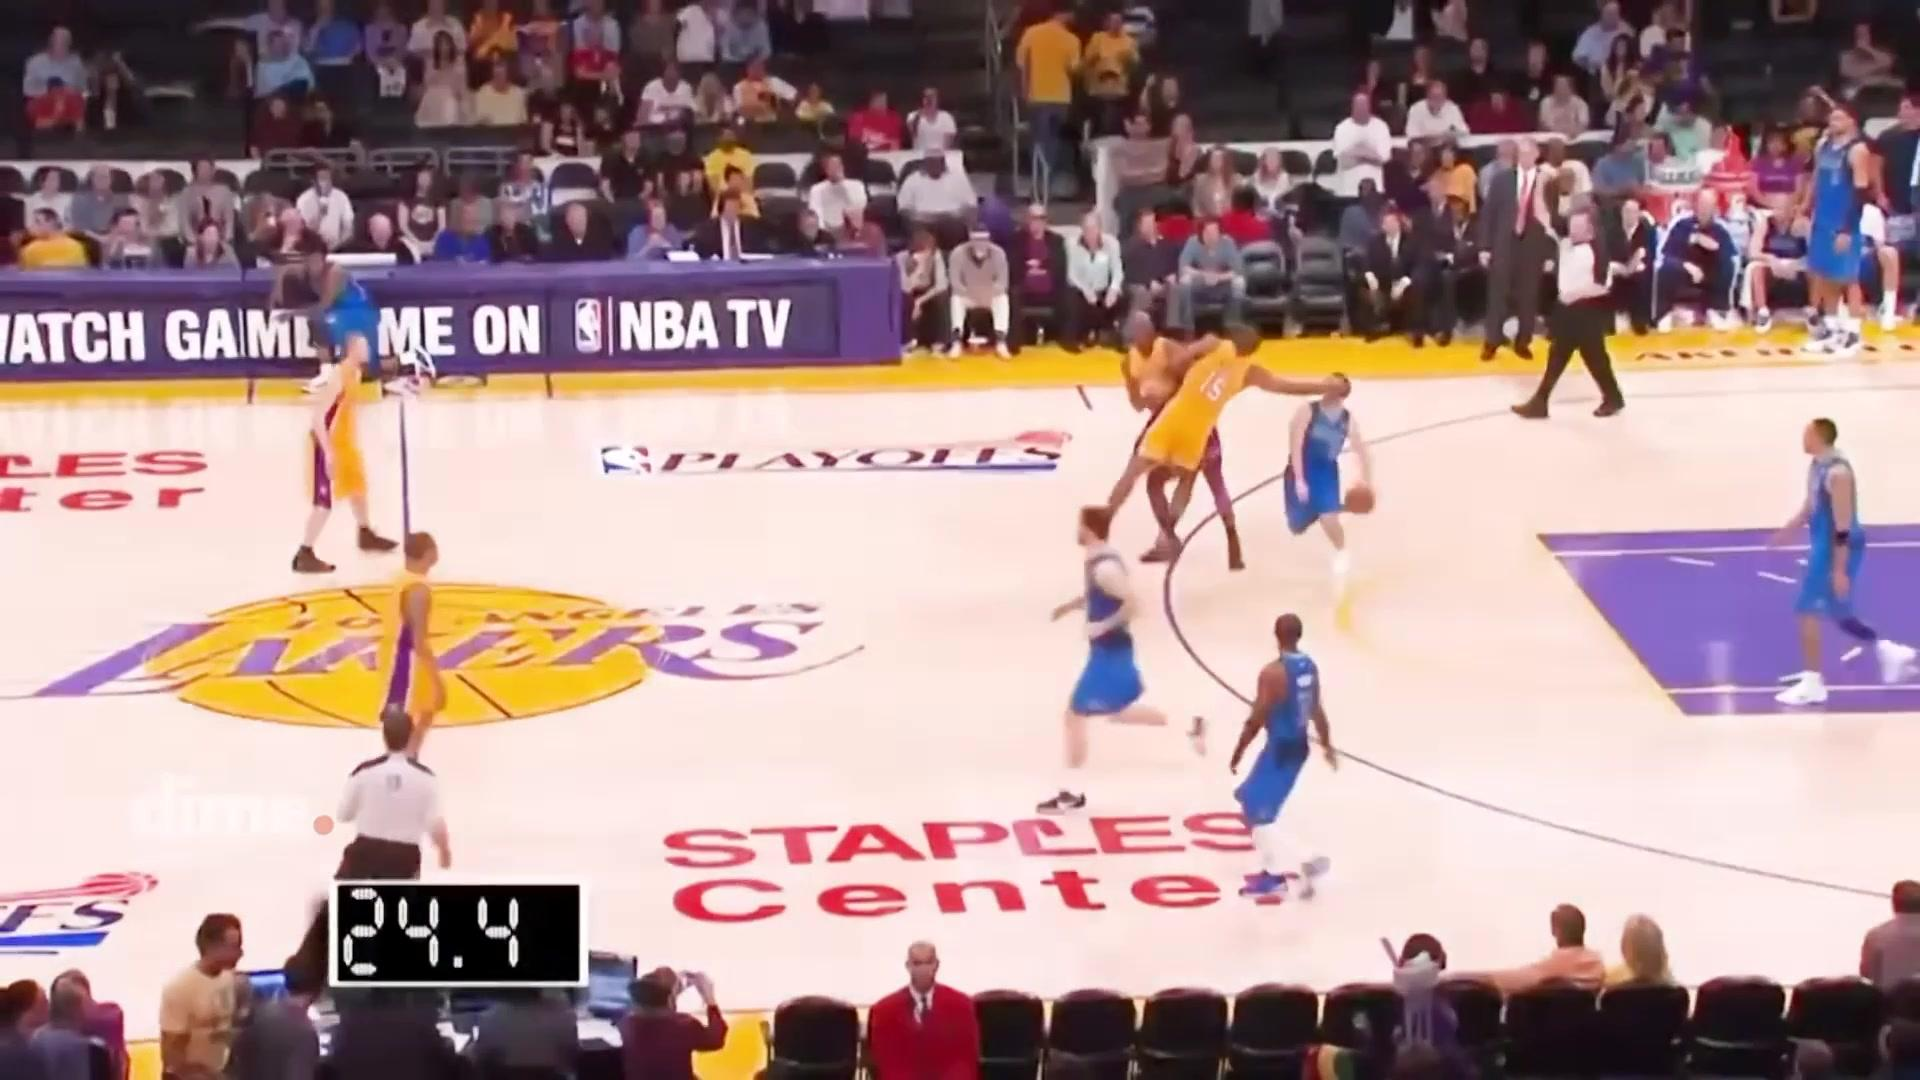foul: (1095, 307, 1367, 575)
